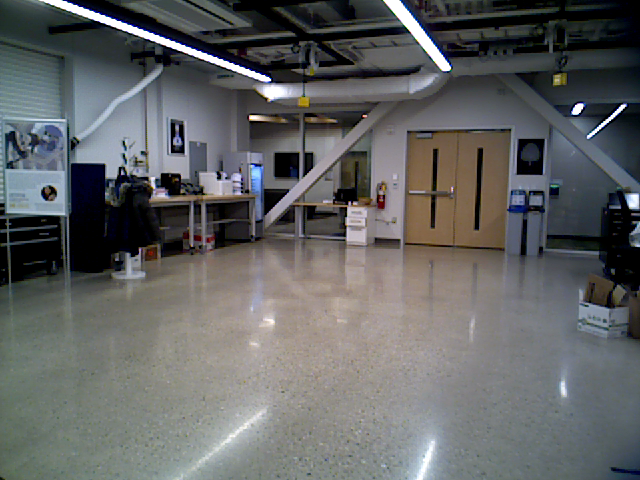painting1: (511, 134, 552, 180)
painting2: (163, 115, 188, 159)
